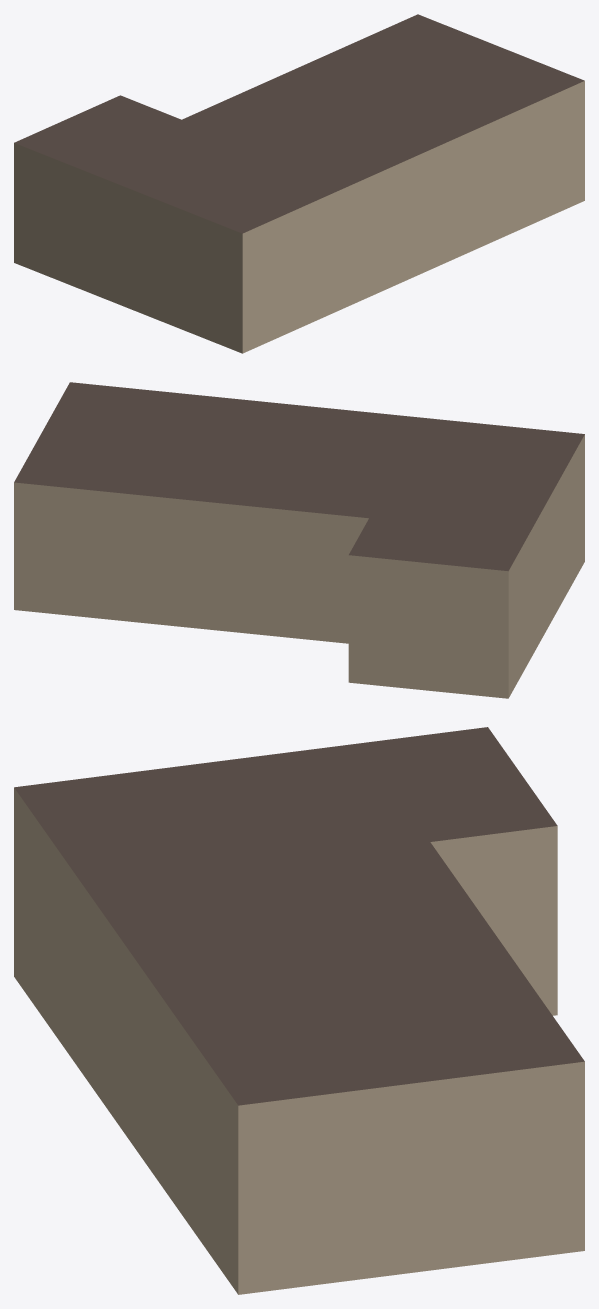
3 renders of one model, top to bottom at view 1: azimuth 30°, elevation 25°; view 2: azimuth 150°, elevation 25°; view 3: azimuth 270°, elevation 25°, orthographic. The views are drawn at different scales.
Parts seen in each view (by area): view 1: HP-w859488630; view 2: HP-w859488630; view 3: HP-w859488630.
Part boxes in pixels (x1,y1,x2,y2): HP-w859488630: [14, 14, 584, 353]; HP-w859488630: [14, 382, 584, 698]; HP-w859488630: [14, 727, 584, 1294].
Size of the model in its own units: 38.6 by 9 by 24.6.
